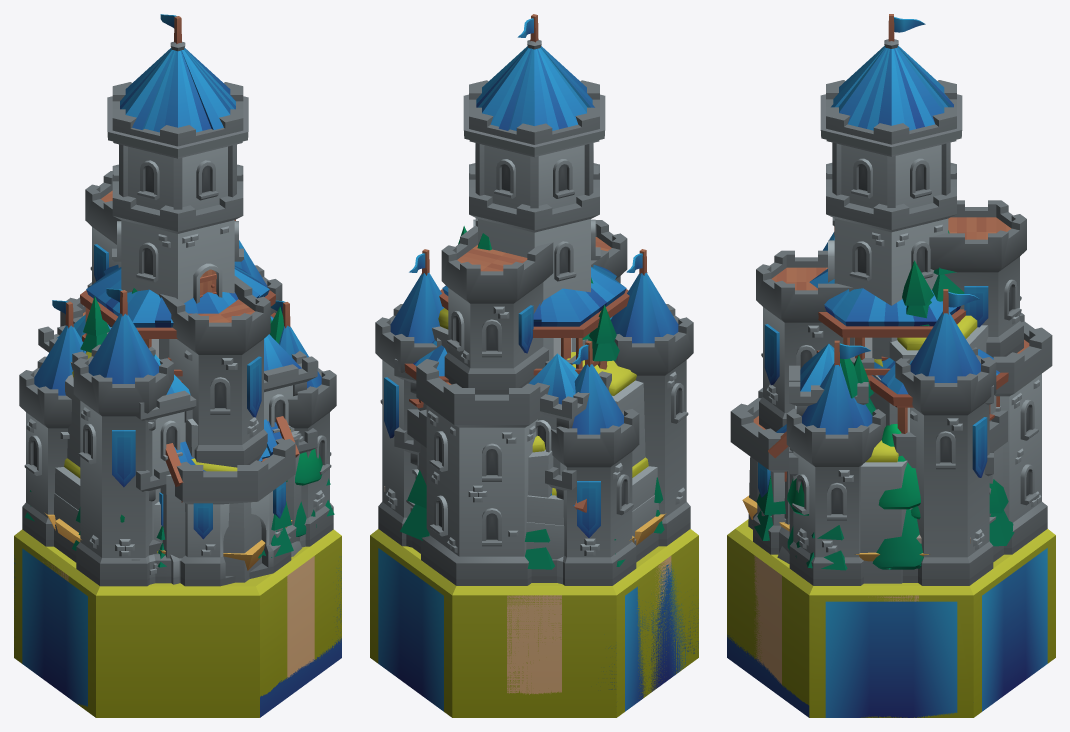
File: Realm_Tiles.glb
3 views of the same model, side by side, from view 1: azimuth 30°, elevation 25°; view 2: azimuth 150°, elevation 25°; view 3: azimuth 270°, elevation 25° (orthographic).
Visible parts, largest first — view 1: building_castle_blue, hex_river_B, hex_river_crossing_A, building_barracks_blue, mountain_C, building_tower_B_top_blue, hex_grass, building_watermill_blue, hex_coast_A, mountain_A, trees_A_large, trees_B_large (+6 smaller); view 2: building_castle_blue, hex_river_crossing_A, hex_river_B, hex_grass, building_barracks_blue, building_tower_B_top_blue, hex_road_A, mountain_C, trees_A_large, hex_coast_A, hex_coast_C, mountain_B (+6 smaller); view 3: building_castle_blue, hex_river_crossing_A, hex_river_B, hex_river_A, mountain_B, building_tower_B_top_blue, hex_grass, mountain_B_grass_trees, building_archeryrange_blue, trees_B_medium, trees_A_large, building_barracks_blue (+5 smaller).
Part boxes in pixels (left/top/right/bottom): building_castle_blue: left=19, top=14, right=336, bottom=586; hex_river_B: left=96, top=545, right=312, bottom=717; hex_river_crossing_A: left=14, top=529, right=341, bottom=709; building_barracks_blue: left=38, top=314, right=317, bottom=584; mountain_C: left=65, top=374, right=299, bottom=582; building_tower_B_top_blue: left=80, top=264, right=275, bottom=382; hex_grass: left=14, top=531, right=341, bottom=660; building_watermill_blue: left=165, top=416, right=299, bottom=584; hex_coast_A: left=148, top=583, right=341, bottom=717; mountain_A: left=54, top=433, right=301, bottom=532; trees_A_large: left=25, top=478, right=334, bottom=567; trees_B_large: left=120, top=449, right=322, bottom=536; building_castle_blue: left=375, top=14, right=693, bottom=585; hex_river_crossing_A: left=379, top=530, right=698, bottom=717; hex_river_B: left=370, top=529, right=568, bottom=717; hex_grass: left=372, top=529, right=698, bottom=717; building_barracks_blue: left=394, top=316, right=612, bottom=584; building_tower_B_top_blue: left=439, top=264, right=629, bottom=375; hex_road_A: left=405, top=529, right=698, bottom=700; mountain_C: left=419, top=380, right=645, bottom=497; trees_A_large: left=400, top=470, right=664, bottom=569; hex_coast_A: left=403, top=546, right=655, bottom=717; hex_coast_C: left=452, top=691, right=563, bottom=717; mountain_B: left=418, top=326, right=657, bottom=525; building_castle_blue: left=730, top=14, right=1052, bottom=585; hex_river_crossing_A: left=753, top=555, right=1035, bottom=717; hex_river_B: left=727, top=519, right=1055, bottom=717; hex_river_A: left=810, top=543, right=1047, bottom=717; mountain_B: left=860, top=325, right=996, bottom=583; building_tower_B_top_blue: left=809, top=268, right=965, bottom=391; hex_grass: left=775, top=531, right=1047, bottom=702; mountain_B_grass_trees: left=840, top=230, right=977, bottom=462; building_archeryrange_blue: left=870, top=349, right=1008, bottom=523; trees_B_medium: left=872, top=424, right=923, bottom=569; trees_A_large: left=752, top=475, right=1014, bottom=570; building_barracks_blue: left=789, top=343, right=993, bottom=476.
Bounding box in the file's own units: 2 × 4.98 × 2.31.
Materials: 1 (1 with a texture image).
